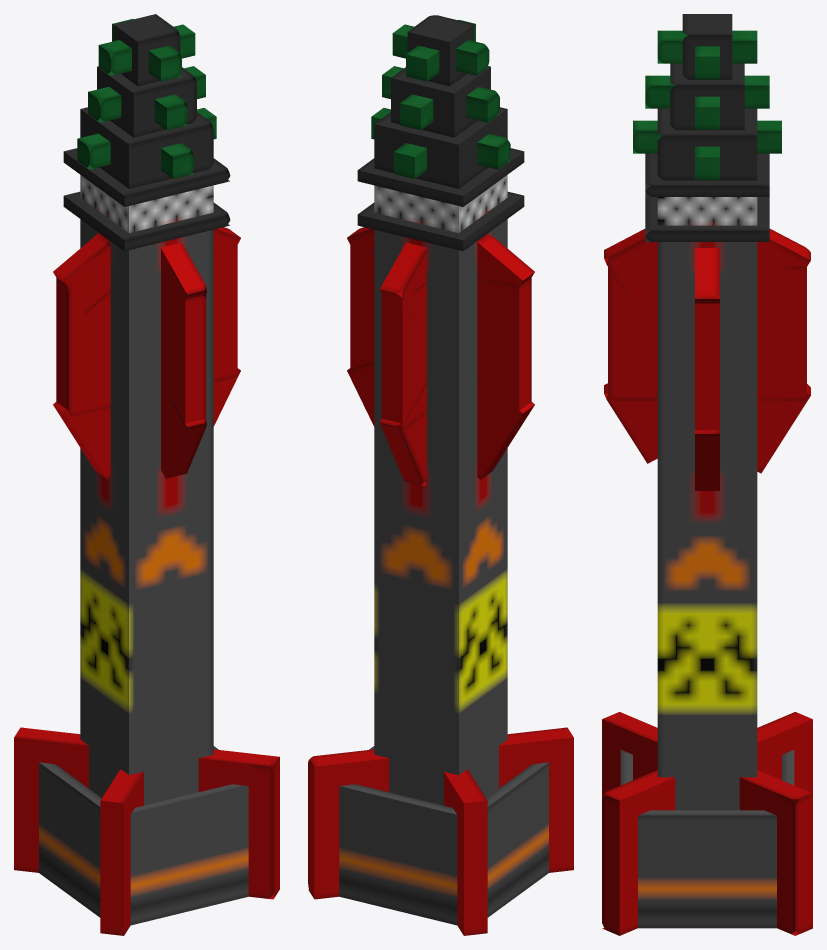
Rendered from missile_contagious.obj.
3 views of the same model, side by side, from view 1: azimuth 30°, elevation 25°; view 2: azimuth 150°, elevation 25°; view 3: azimuth 270°, elevation 25° (orthographic).
Parts seen in each view (by area): view 1: Shape1, Shape2, Shape3a, Shape5a, Shape2c, Shape3, Shape7, Shape5, Shape7a, Shape6a, Shape6, Shape4h (+12 smaller); view 2: Shape1, Shape2a, Shape3, Shape5a, Shape2c, Shape5, Shape3a, Shape7, Shape7a, Shape6a, Shape4, Shape6 (+11 smaller); view 3: Shape1, Shape2b, Shape5, Shape3, Shape3a, Shape7, Shape7a, Shape5a, Shape6a, Shape6, Shape7b, Shape4e (+11 smaller).
Boxes of the visible parts, left/top/right/bottom form: Shape1: left=80, top=175, right=213, bottom=805; Shape2: left=130, top=784, right=248, bottom=925; Shape3a: left=14, top=727, right=279, bottom=899; Shape5a: left=56, top=244, right=237, bottom=416; Shape2c: left=39, top=762, right=101, bottom=917; Shape3: left=100, top=769, right=143, bottom=935; Shape7: left=80, top=107, right=213, bottom=188; Shape5: left=161, top=283, right=206, bottom=427; Shape7a: left=97, top=66, right=196, bottom=137; Shape6a: left=63, top=191, right=230, bottom=251; Shape6: left=63, top=148, right=230, bottom=206; Shape4h: left=53, top=233, right=110, bottom=313; Shape1: left=374, top=175, right=507, bottom=805; Shape2a: left=339, top=784, right=457, bottom=925; Shape3: left=308, top=727, right=573, bottom=899; Shape5a: left=350, top=244, right=531, bottom=415; Shape2c: left=486, top=762, right=548, bottom=917; Shape5: left=381, top=281, right=426, bottom=430; Shape3a: left=444, top=769, right=487, bottom=935; Shape7: left=374, top=107, right=507, bottom=188; Shape7a: left=391, top=66, right=490, bottom=137; Shape6a: left=357, top=191, right=524, bottom=251; Shape4: left=477, top=375, right=534, bottom=479; Shape6: left=357, top=148, right=524, bottom=206; Shape1: left=657, top=197, right=757, bottom=810; Shape2b: left=638, top=810, right=776, bottom=928; Shape5: left=608, top=258, right=806, bottom=401; Shape3: left=602, top=712, right=812, bottom=935; Shape3a: left=602, top=712, right=812, bottom=935; Shape7: left=657, top=108, right=757, bottom=180; Shape7a: left=670, top=63, right=744, bottom=130; Shape5a: left=695, top=294, right=719, bottom=433; Shape6a: left=645, top=197, right=769, bottom=241; Shape6: left=645, top=153, right=769, bottom=196; Shape7b: left=682, top=14, right=732, bottom=79; Shape4e: left=604, top=229, right=657, bottom=298.
Bounding box in the file's own units: 1.06 × 4.81 × 1.06.
